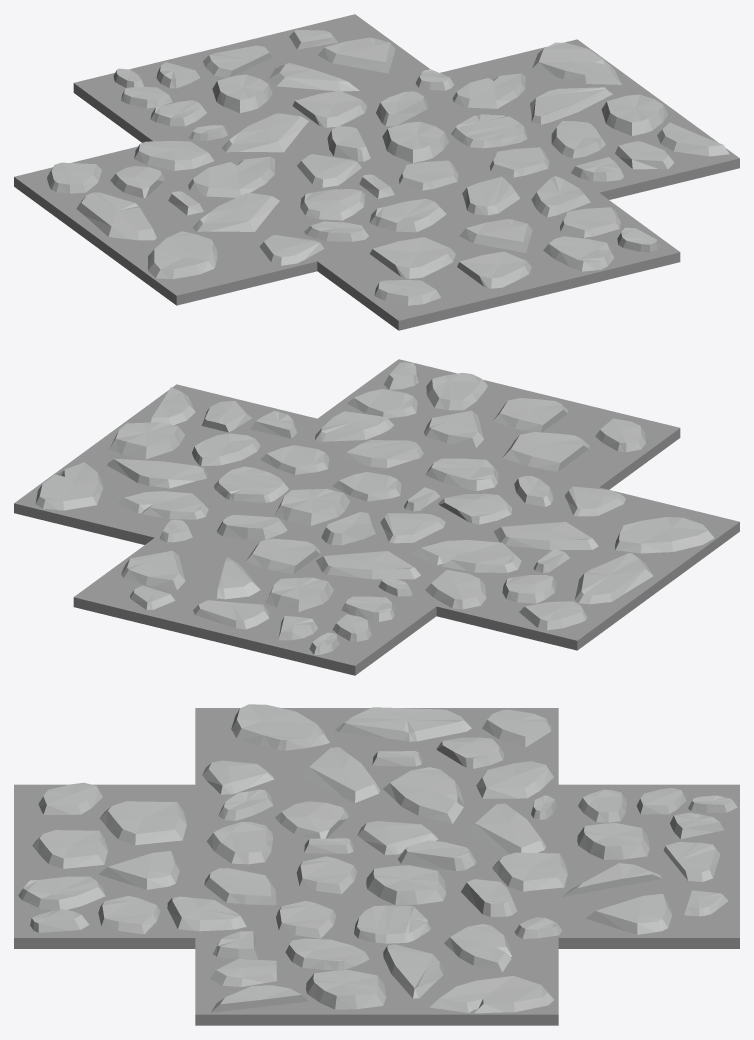
Rendered from Road_Stone_03.glb.
The picture shows the model from 3 angles, top to bottom: view 1: azimuth 30°, elevation 25°; view 2: azimuth 150°, elevation 25°; view 3: azimuth 270°, elevation 25°; orthographic projection. The views are drawn at different scales.
Visible parts, largest first — view 1: Road_stone_3; view 2: Road_stone_3; view 3: Road_stone_3.
Part boxes in pixels (box(x1,y1,x2,y2)): Road_stone_3: box(14, 14, 739, 330); Road_stone_3: box(14, 359, 739, 675); Road_stone_3: box(14, 704, 739, 1025).
Bounding box in the file's own units: 6 × 0.2068 × 6.
Materials: 1 (1 with a texture image).
